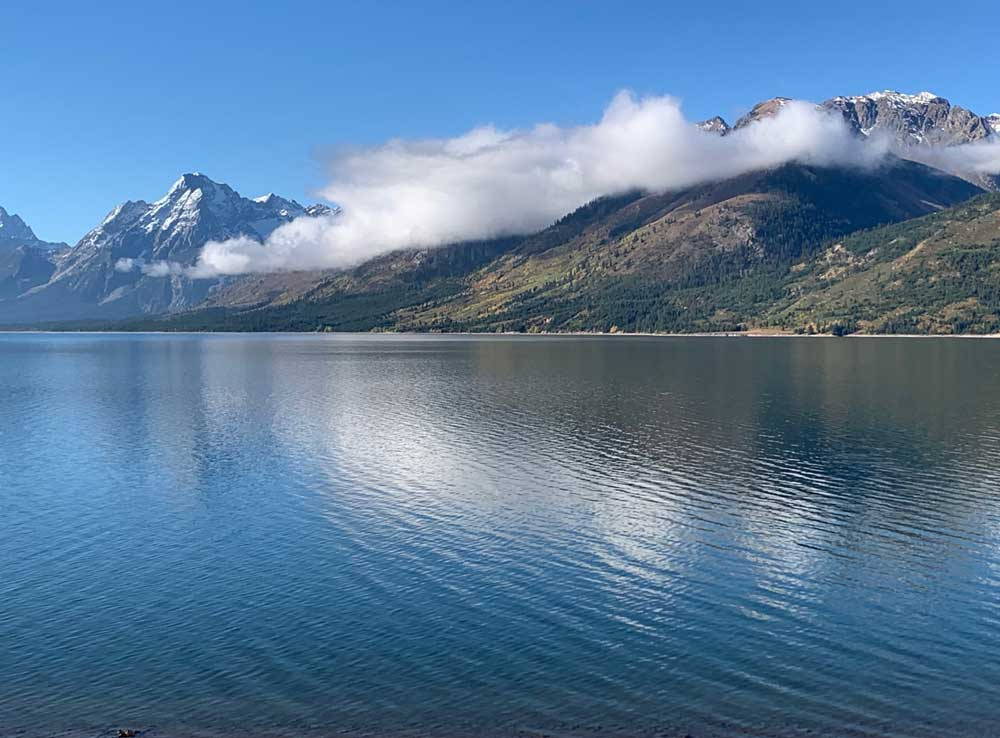Stratus: (228, 82, 983, 256)
